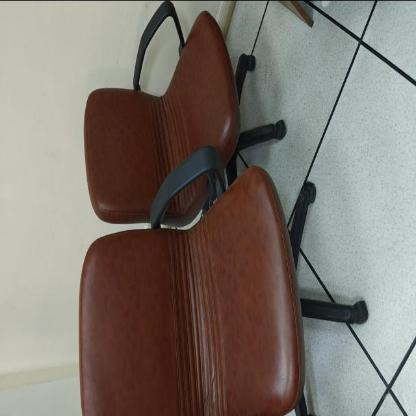chair: (61, 149, 372, 416), (73, 0, 292, 218)
